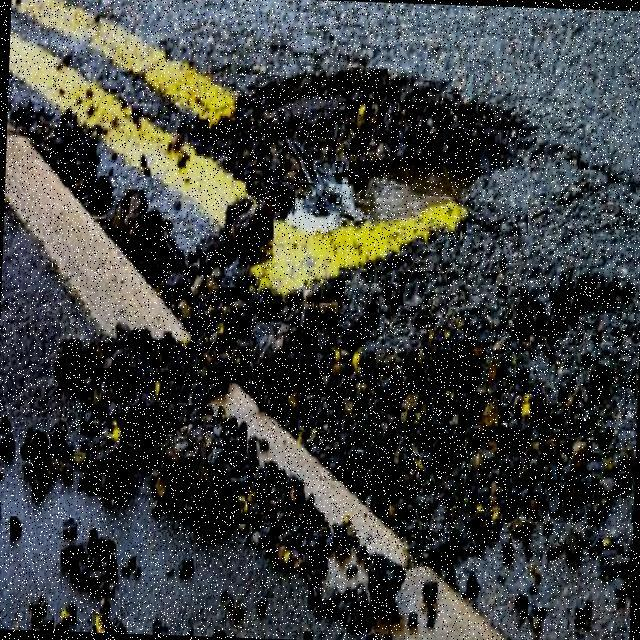Pothole: (182, 64, 533, 234)
